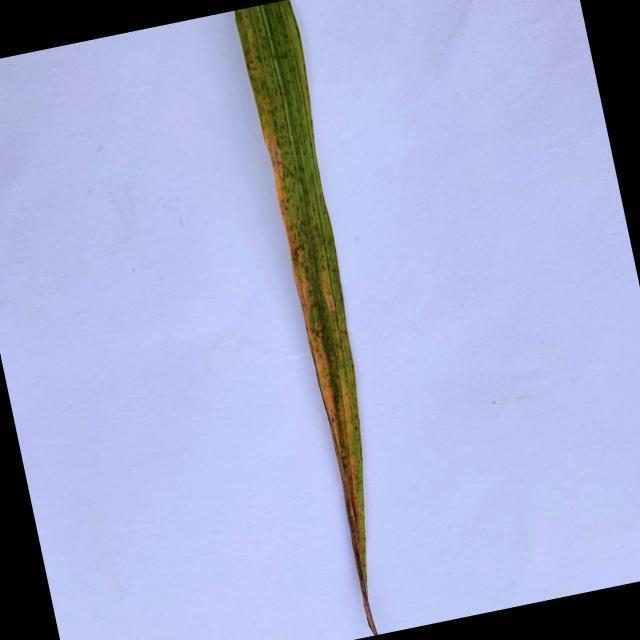Rice Tungro: (254, 102, 383, 638)
